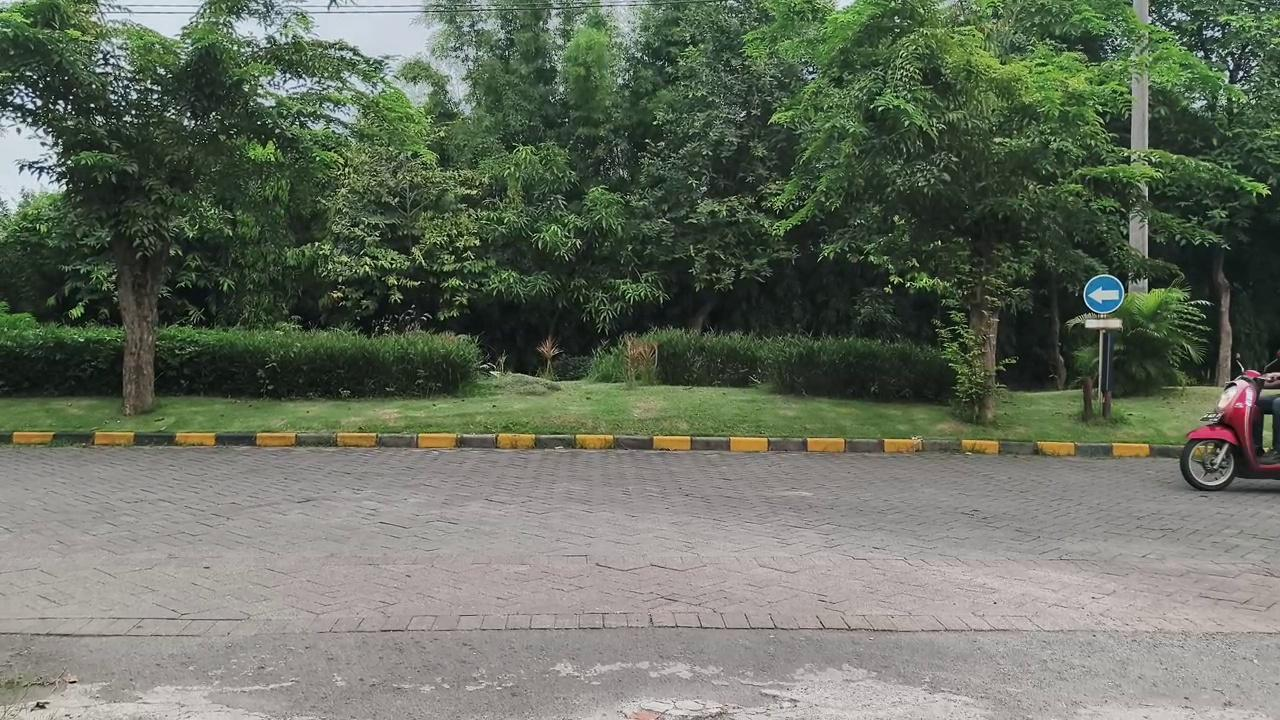Helmet: (1253, 394, 1279, 464)
Motor: (1180, 353, 1279, 490)
